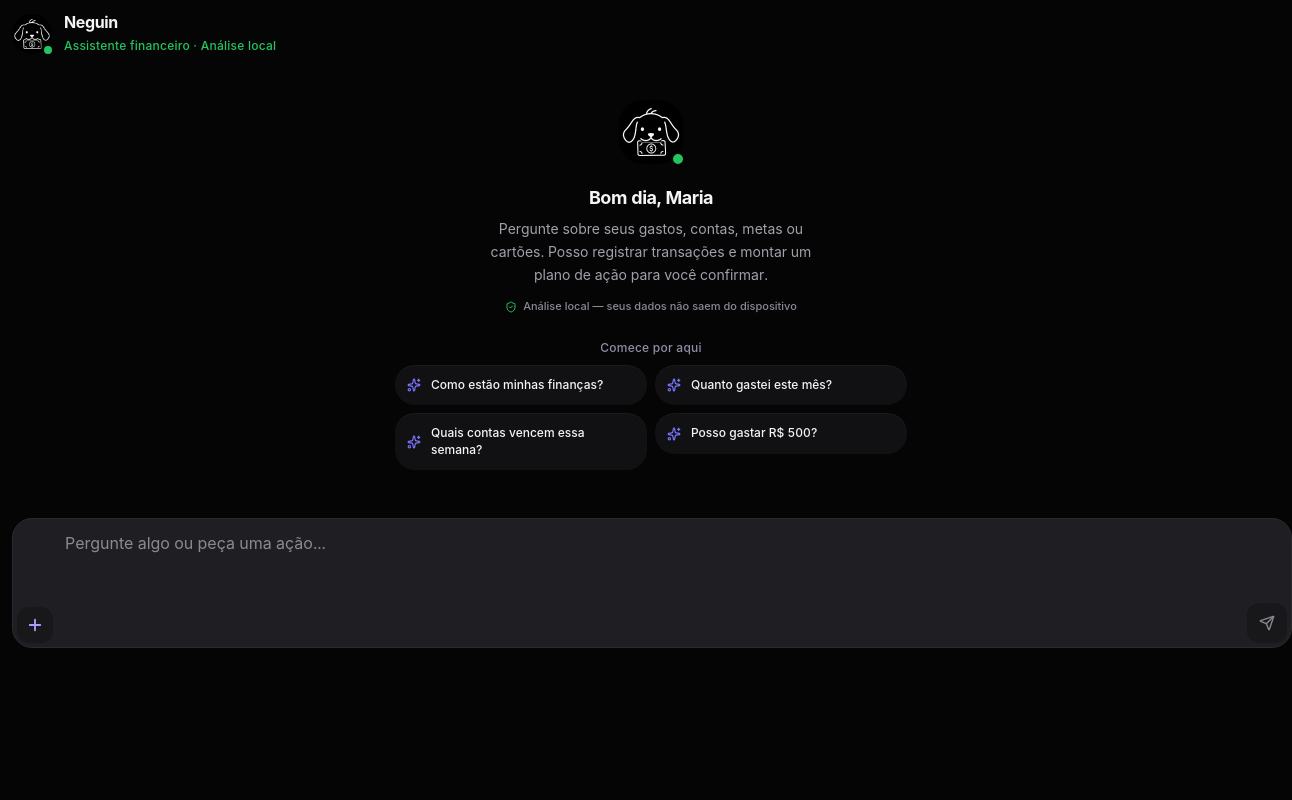
it: AIAssistantPage conditional auto-scroll › retries the failed question verbatim without leaking internals
This screenshot has width=1292, height=800.
(page scrolled)
Step 1. Click the button "Como estão minhas finanças?" → (521, 385), box 395,365 -> 647,405
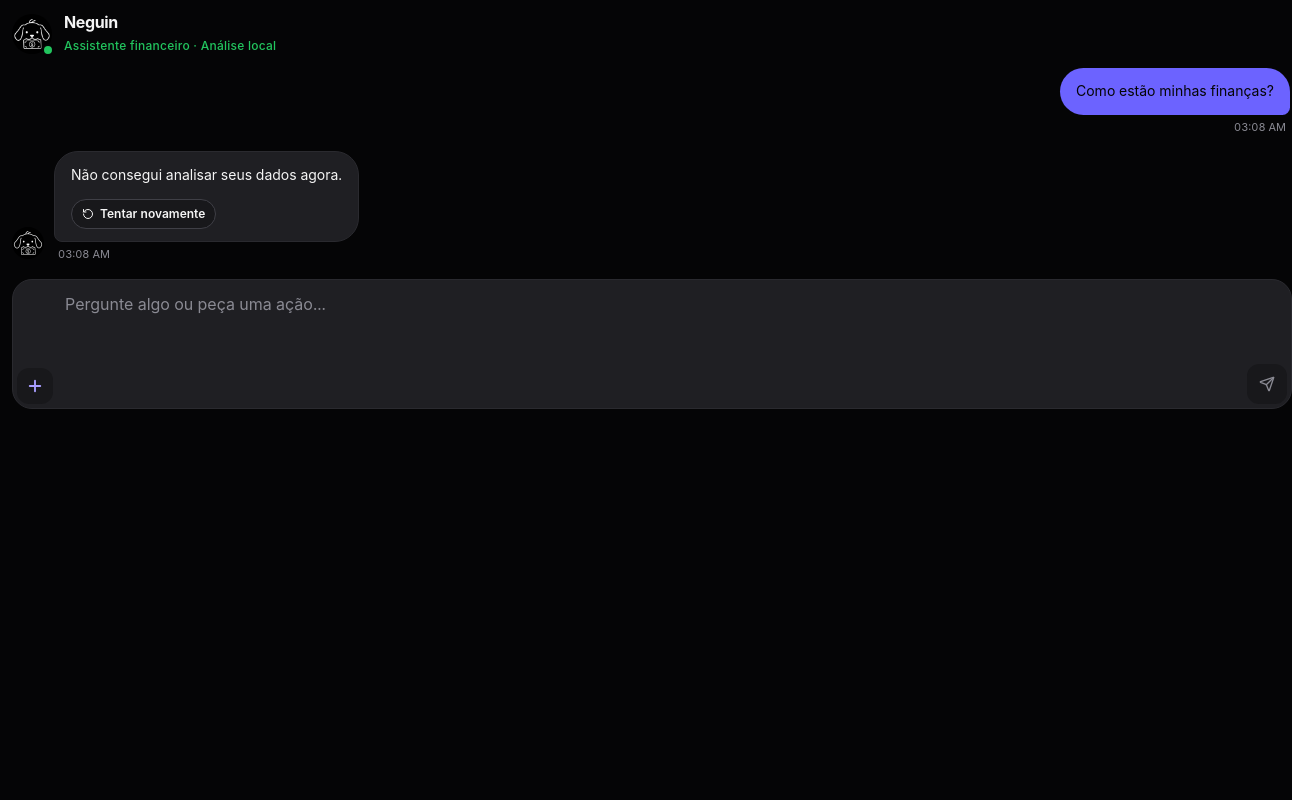
Result: the text "Não consegui analisar seus dados agora." is shown at 71,164 -> 342,187
Step 2. Click the button "Tentar novamente" → (144, 214), box 71,199 -> 216,229
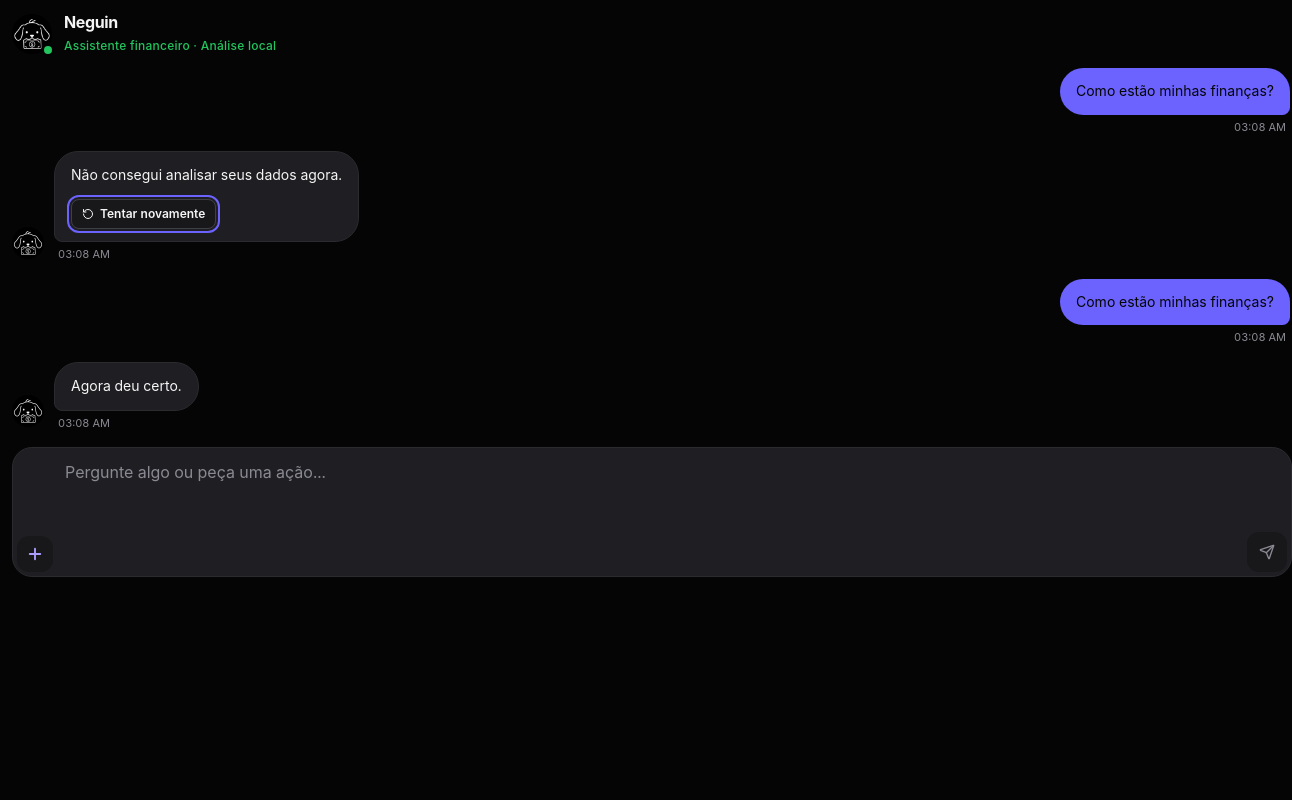
Result: the text "Agora deu certo." is shown at 71,375 -> 182,398
